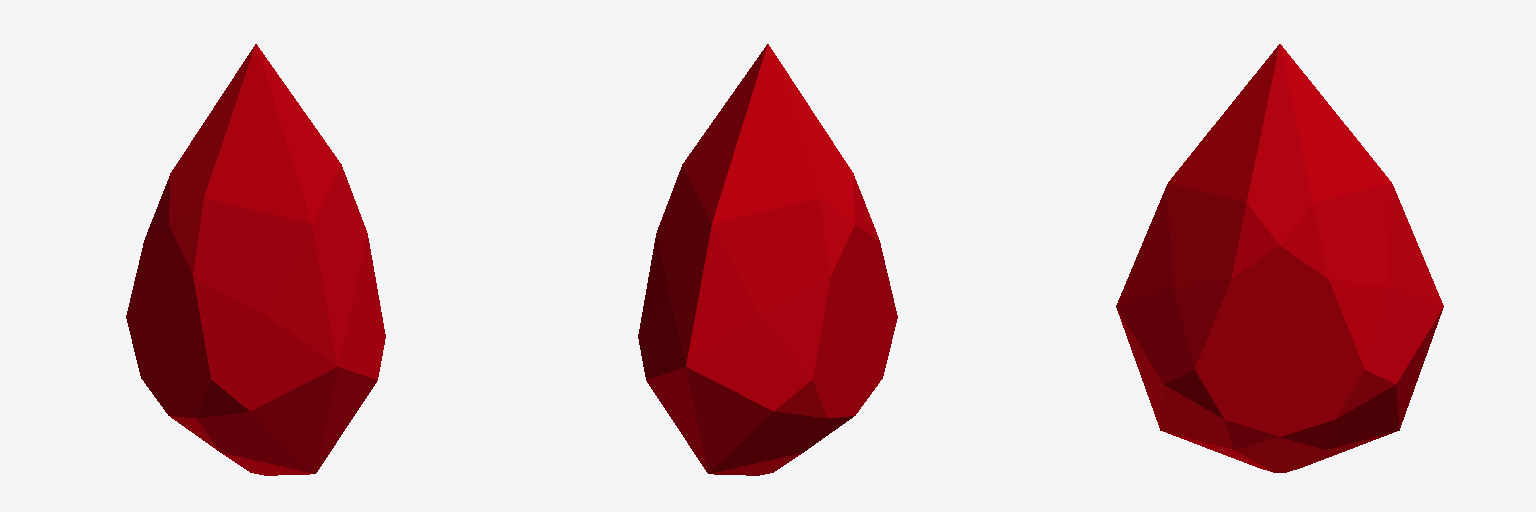
Rendered from Gem2.obj.
The picture shows the model from 3 angles: view 1: azimuth 30°, elevation 25°; view 2: azimuth 150°, elevation 25°; view 3: azimuth 270°, elevation 25°; orthographic projection.
Parts seen in each view (by area): view 1: Gem.002_Shape002.002; view 2: Gem.002_Shape002.002; view 3: Gem.002_Shape002.002.
Boxes of the visible parts, x1=… form: Gem.002_Shape002.002: x1=126, y1=44, x2=385, y2=475; Gem.002_Shape002.002: x1=638, y1=44, x2=897, y2=475; Gem.002_Shape002.002: x1=1116, y1=44, x2=1443, y2=472.
Bounding box in the file's own units: 0.4371 × 1.02 × 0.7109.